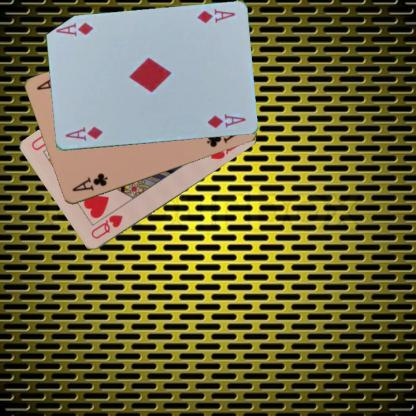Ac: (70, 170, 110, 193)
Ad: (62, 124, 104, 143), (194, 6, 236, 25)
Qh: (88, 212, 124, 241)
